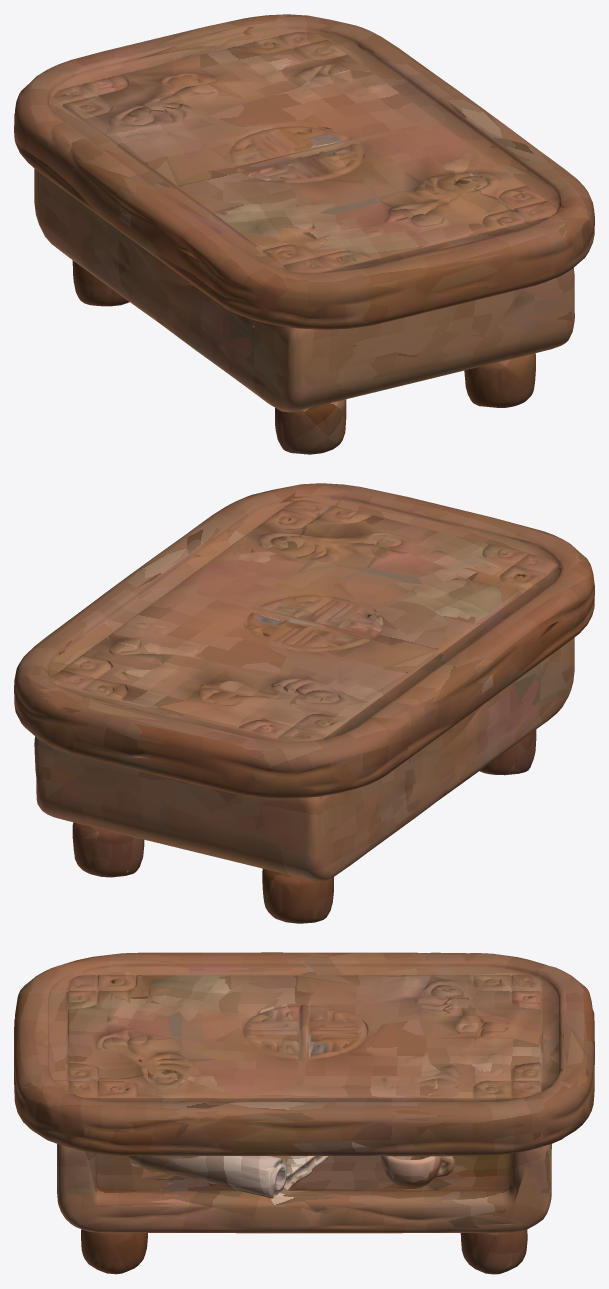
The model's file is KR_사물_s1_prop_sofa_table.glb.
3 renders of one model, top to bottom at view 1: azimuth 30°, elevation 25°; view 2: azimuth 150°, elevation 25°; view 3: azimuth 270°, elevation 25°, orthographic. The views are drawn at different scales.
Parts seen in each view (by area): view 1: tripo_node_cc21e19a-b4a5-43ff-8f98-368af2408ee2; view 2: tripo_node_cc21e19a-b4a5-43ff-8f98-368af2408ee2; view 3: tripo_node_cc21e19a-b4a5-43ff-8f98-368af2408ee2.
Boxes of the visible parts, left/top/right/bottom form: tripo_node_cc21e19a-b4a5-43ff-8f98-368af2408ee2: left=14, top=14, right=594, bottom=454; tripo_node_cc21e19a-b4a5-43ff-8f98-368af2408ee2: left=14, top=483, right=594, bottom=923; tripo_node_cc21e19a-b4a5-43ff-8f98-368af2408ee2: left=14, top=952, right=594, bottom=1274.
Bounding box in the file's own units: 0.6771 × 0.3587 × 1.
1 material, 1 textured.
